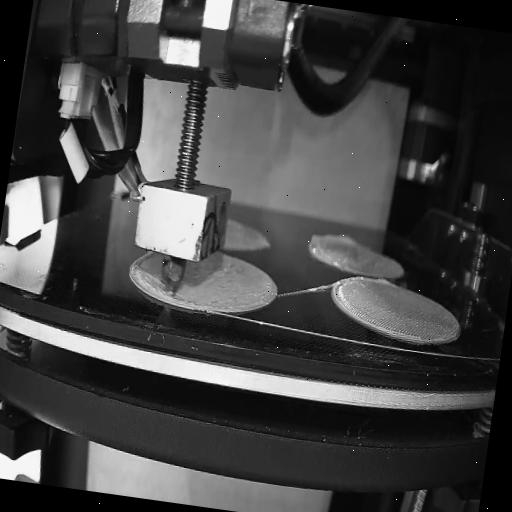over_extrusion: (304, 227, 359, 251), (126, 249, 154, 275), (138, 278, 170, 296), (374, 276, 390, 286)
